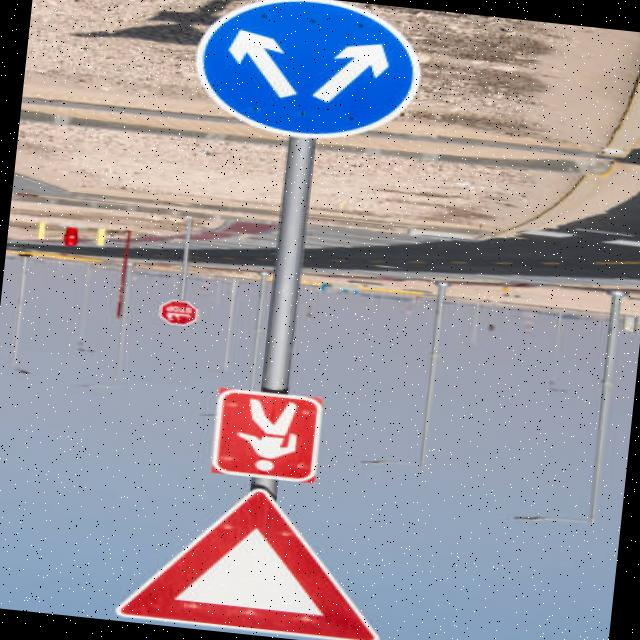give_way: (97, 471, 421, 640)
